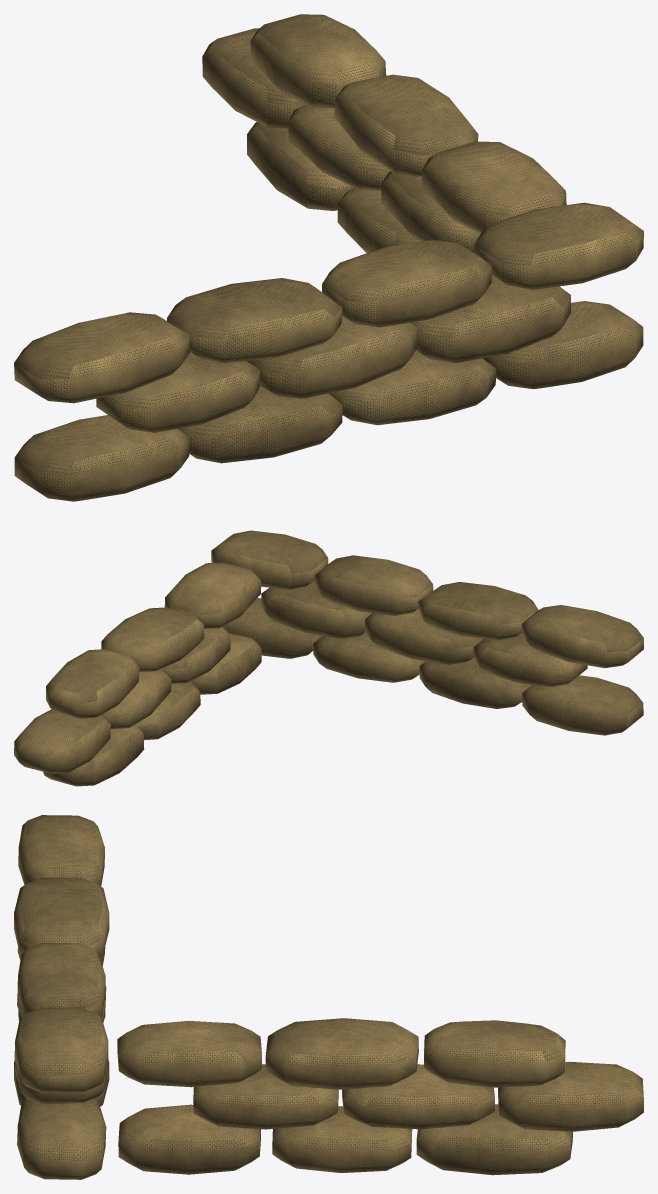
Rendered from SM_Sacos_Esquina_Bajo.fbx.
3 views of the same model, one above another, from view 1: azimuth 30°, elevation 25°; view 2: azimuth 150°, elevation 25°; view 3: azimuth 270°, elevation 25° (orthographic). The views are drawn at different scales.
Parts seen in each view (by area): view 1: SM_Sacos_Esquina_Bajo; view 2: SM_Sacos_Esquina_Bajo; view 3: SM_Sacos_Esquina_Bajo.
Part boxes in pixels (x1=…): SM_Sacos_Esquina_Bajo: x1=14, y1=14, x2=643, y2=501; SM_Sacos_Esquina_Bajo: x1=14, y1=530, x2=643, y2=786; SM_Sacos_Esquina_Bajo: x1=14, y1=815, x2=643, y2=1179.
Size of what is drawn, in the model's own units: 1.99 by 2.07 by 0.491.
